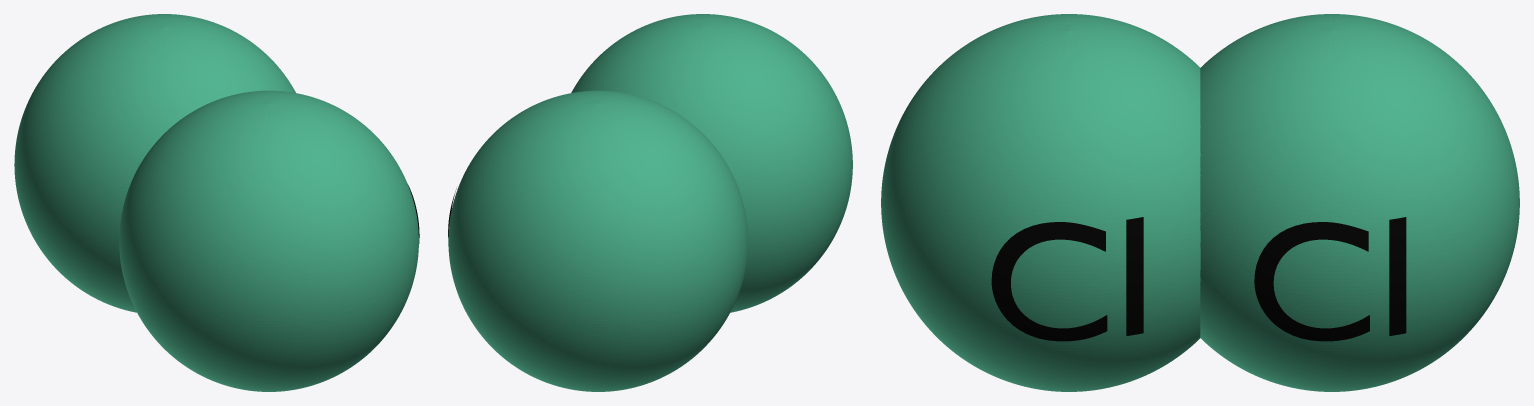
Rendered from Chlorine Gas (Cl2) - Copy.fbx.
3 views of the same model, side by side, from view 1: azimuth 30°, elevation 25°; view 2: azimuth 150°, elevation 25°; view 3: azimuth 270°, elevation 25° (orthographic). The views are drawn at different scales.
Visible parts, largest first — view 1: Sphere.034, Sphere.033; view 2: Sphere.033, Sphere.034; view 3: Sphere.033, Sphere.034, Text.034, Text.033.
Part boxes in pixels (x1,y1,x2,y2): Sphere.034: [119, 90, 418, 391]; Sphere.033: [14, 14, 295, 312]; Sphere.033: [448, 90, 747, 391]; Sphere.034: [571, 14, 852, 312]; Sphere.033: [1200, 14, 1519, 391]; Sphere.034: [881, 14, 1200, 391]; Text.034: [991, 217, 1143, 341]; Text.033: [1254, 217, 1406, 341].
Bounding box in the file's own units: 197 × 200 × 335.
